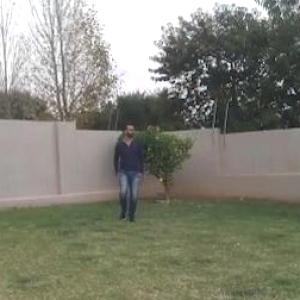follow: (117, 120, 143, 226)
